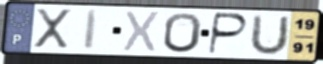I: (82, 9, 101, 52)
O: (162, 11, 204, 55)
P: (206, 11, 250, 57)
U: (247, 13, 291, 57)
X: (121, 9, 163, 54), (33, 7, 73, 50)
